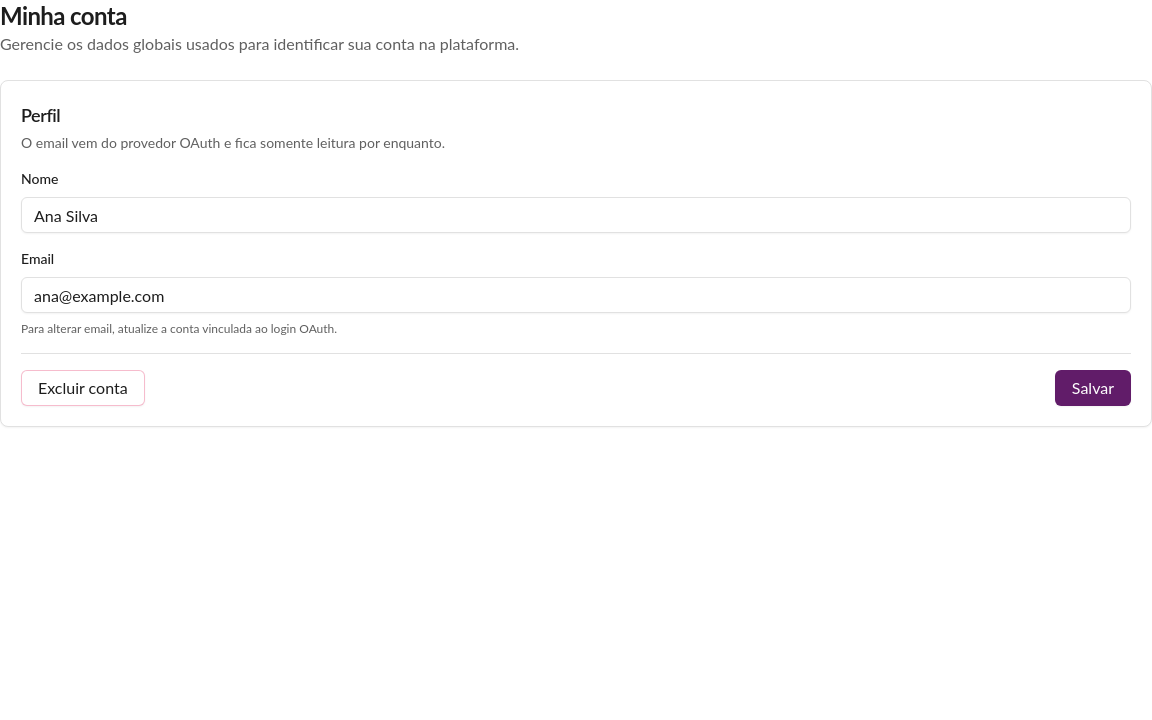
Scenario: AccountPage › shows delete account API errors
Click the button "Excluir conta" at coordinates (83, 388), box [21,370,145,406]
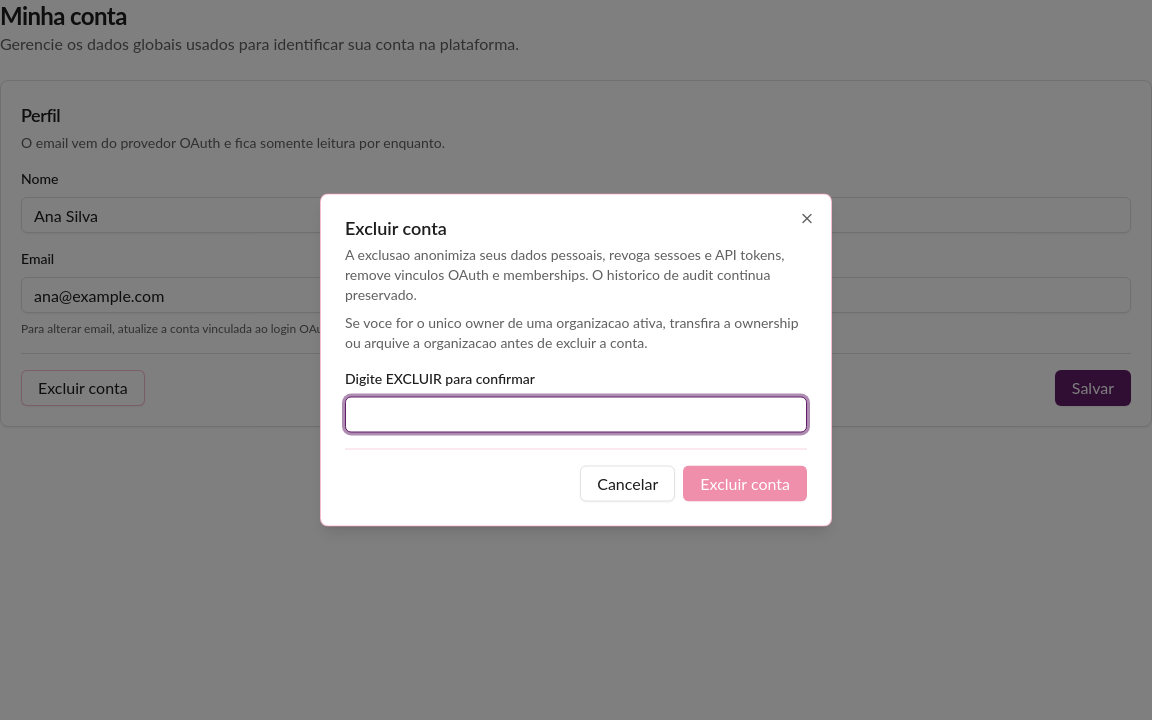
Type "EXCLUIR" into the field labelled "Digite EXCLUIR para confirmar" at coordinates (576, 414), box [345,396,807,432]
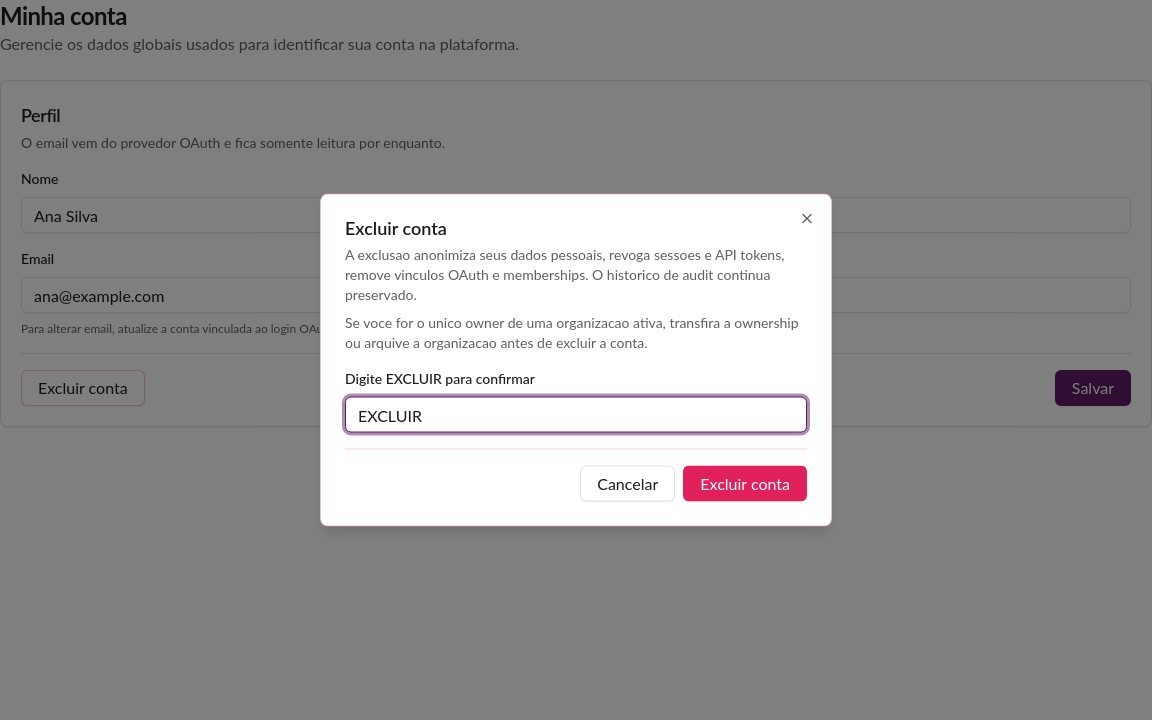
Click the button "Excluir conta" at coordinates (745, 484), box [683,466,807,502]
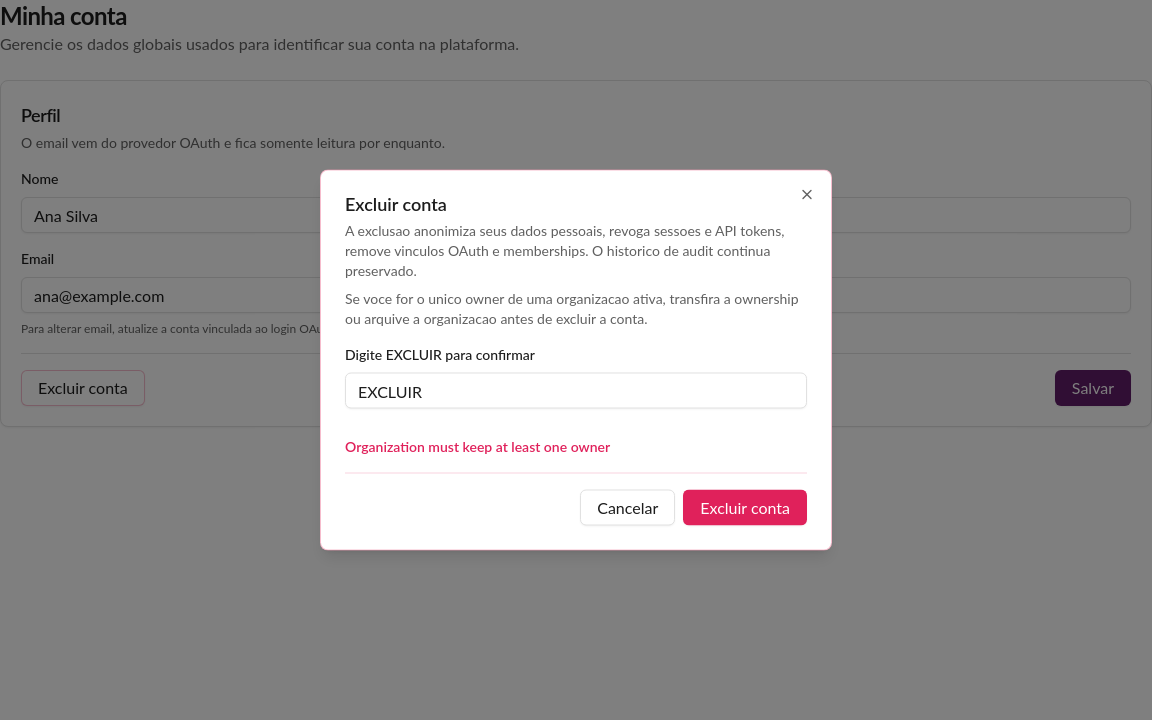
Result: the text "Organization must keep at least one owner" is shown at [345,438,610,454]
